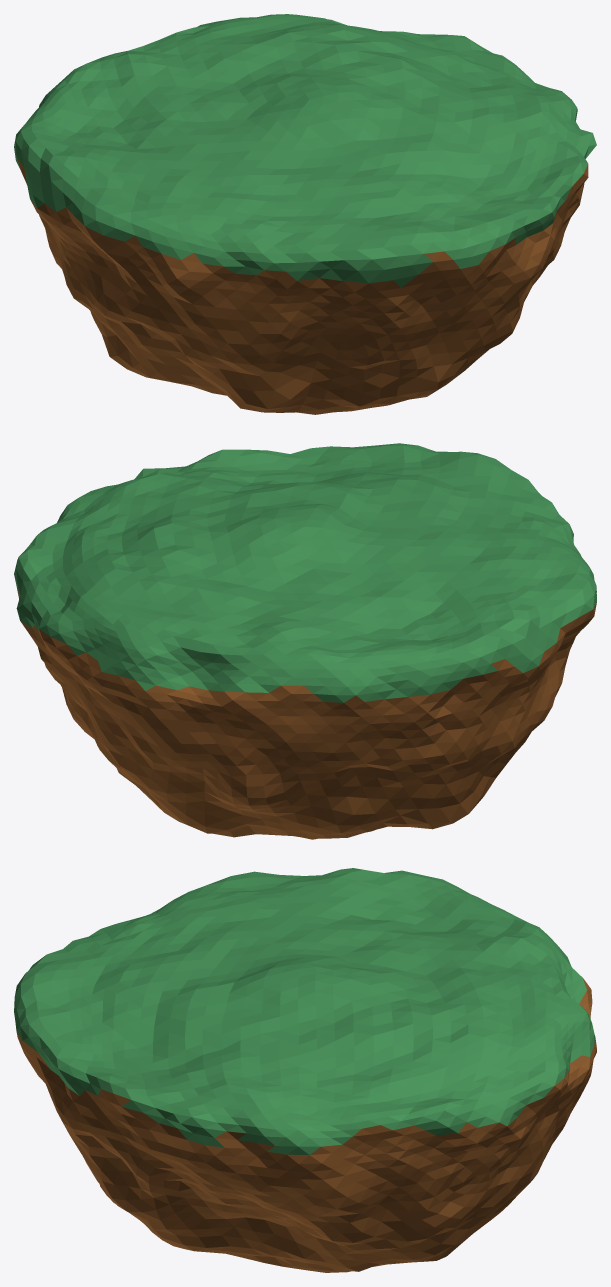
Rendered from forest_island_5fbx.fbx.
3 views of the same model, one above another, from view 1: azimuth 30°, elevation 25°; view 2: azimuth 150°, elevation 25°; view 3: azimuth 270°, elevation 25° (orthographic).
Visible parts, largest first — view 1: Icosphere.021; view 2: Icosphere.021; view 3: Icosphere.021.
Boxes of the visible parts, x1=… form: Icosphere.021: x1=14, y1=14, x2=596, y2=414; Icosphere.021: x1=14, y1=443, x2=596, y2=839; Icosphere.021: x1=14, y1=868, x2=596, y2=1272.
Size of the model in its own units: 4869 by 2619 by 4862.
